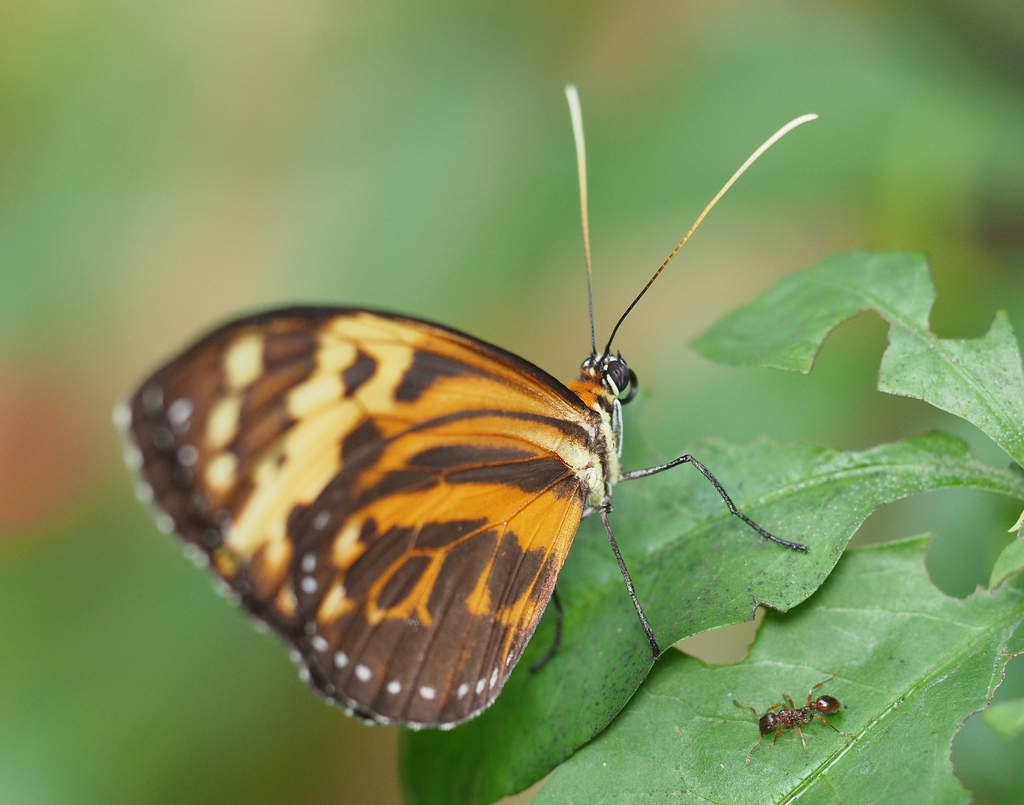Butterfly: (89, 216, 781, 748)
